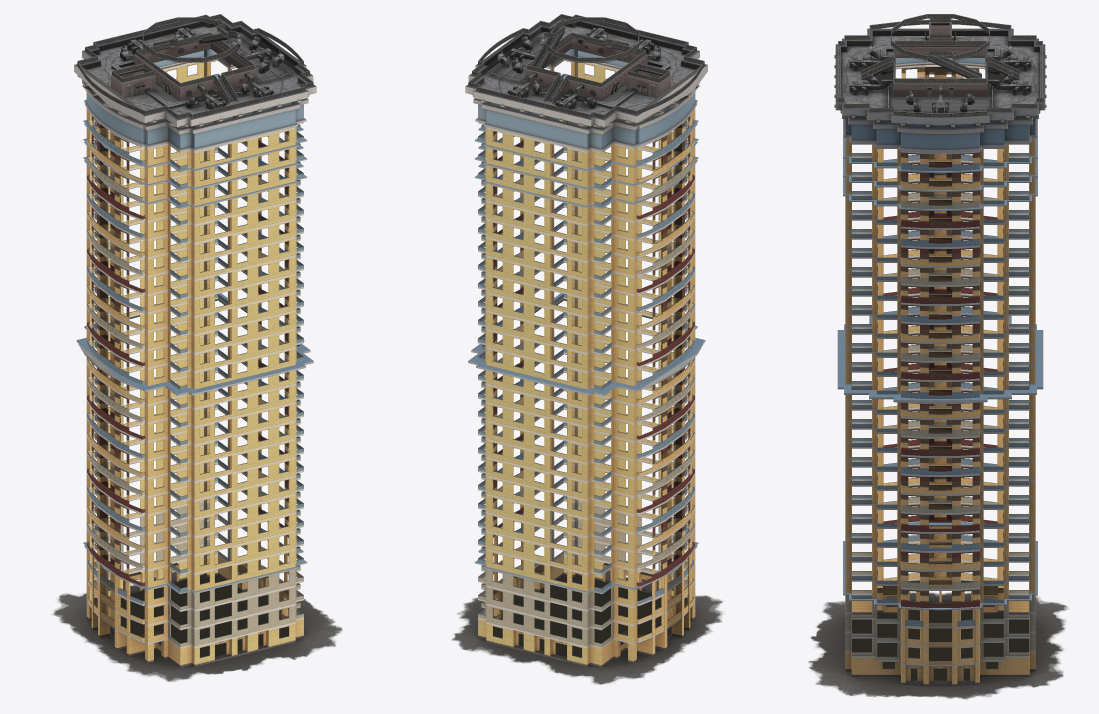
File: house_moscow_multi.glb
The picture shows the model from 3 angles, left to right: view 1: azimuth 30°, elevation 25°; view 2: azimuth 150°, elevation 25°; view 3: azimuth 270°, elevation 25°; orthographic projection. The views are drawn at different scales.
Visible parts, largest first — view 1: Moskow_house_marm_low_0, Plane001_ground_0; view 2: Moskow_house_marm_low_0, Plane001_ground_0; view 3: Moskow_house_marm_low_0, Plane001_ground_0.
Part boxes in pixels (box(x1,y1,x2,y2)): Moskow_house_marm_low_0: box(74, 14, 316, 667); Plane001_ground_0: box(51, 571, 342, 681); Moskow_house_marm_low_0: box(465, 14, 707, 667); Plane001_ground_0: box(451, 571, 722, 684); Moskow_house_marm_low_0: box(834, 14, 1046, 686); Plane001_ground_0: box(808, 592, 1067, 699).
Bounding box in the file's own units: 41.88 × 106 × 45.41.
Materials: 2 (2 with a texture image).
